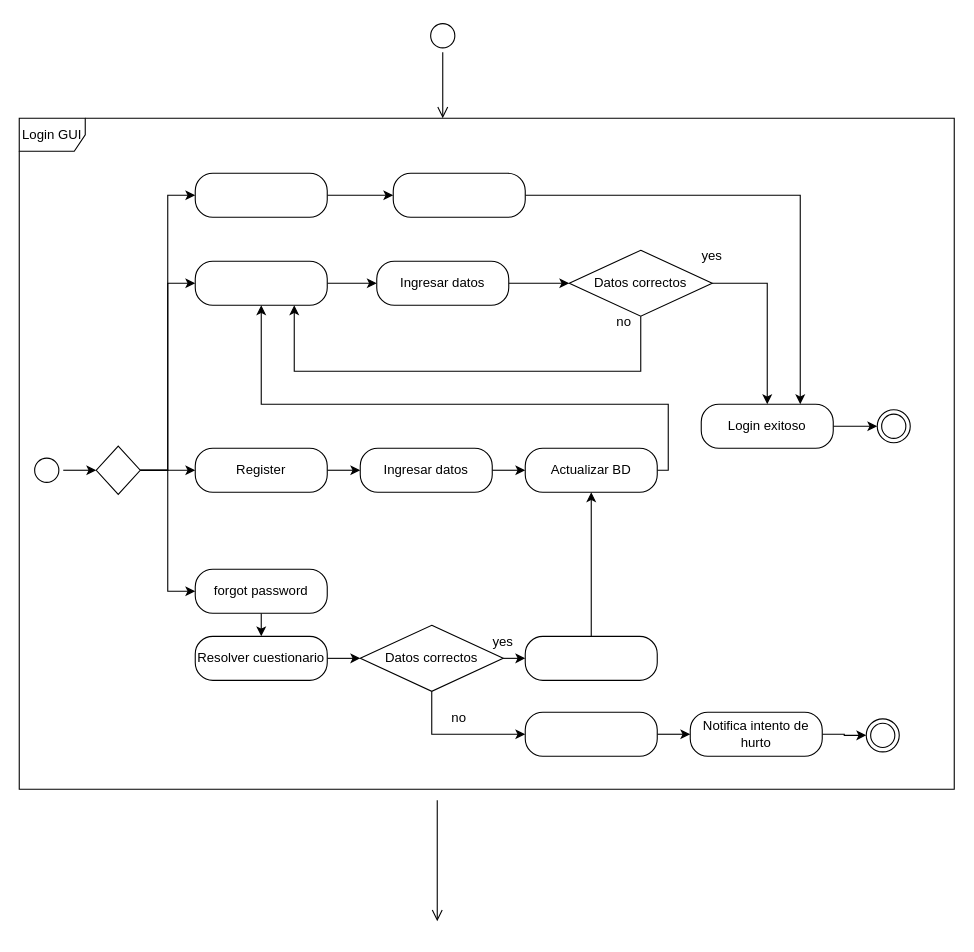
The diagram is 974 pixels wide and 952 high, and some of its shapes have lost their labels. The shapes that lost their labels are listed below. From the top down, each one's centre as x and y in pixels, then its label:
At point 260,194: "Login Google".
At point 458,194: "Google".
At point 260,282: "Login".
At point 590,657: "Cambio password".
At point 590,733: "Mensaje de error".
